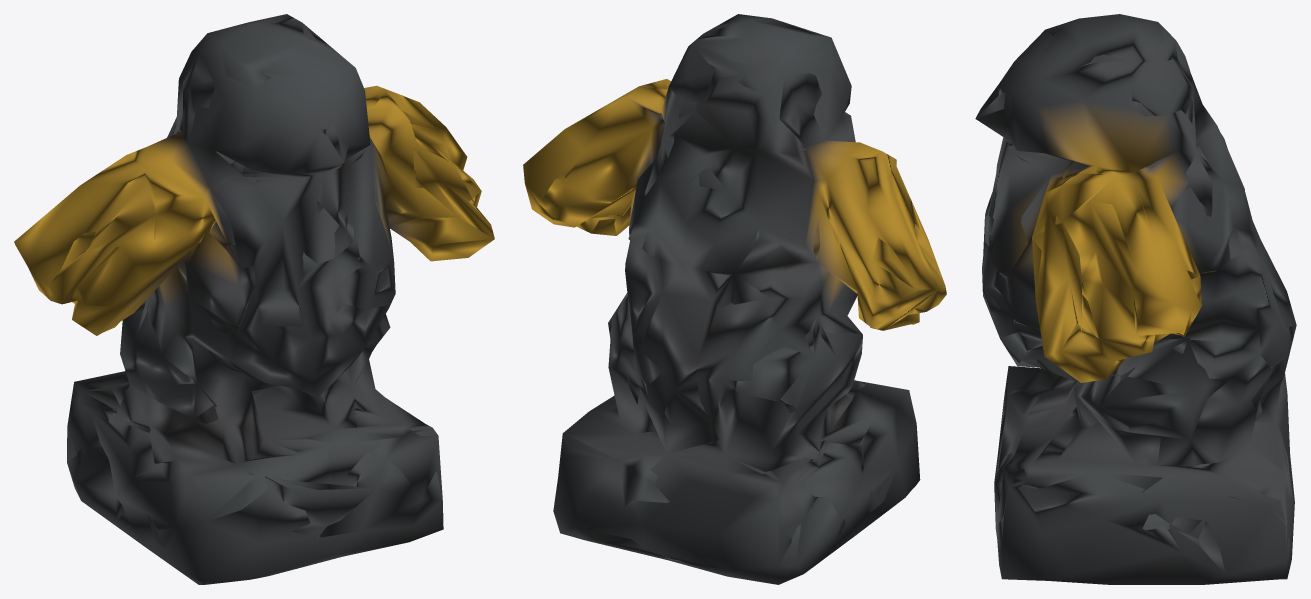
The model's file is gen3d-scarab-statue-lod0.glb.
3 views of the same model, side by side, from view 1: azimuth 30°, elevation 25°; view 2: azimuth 150°, elevation 25°; view 3: azimuth 270°, elevation 25° (orthographic). The views are drawn at different scales.
Parts seen in each view (by area): view 1: part_0; view 2: part_0; view 3: part_0.
Boxes of the visible parts, x1,y1,x2,y2 form: part_0: (14, 14, 494, 584); part_0: (523, 14, 946, 584); part_0: (975, 14, 1296, 584).
Bounding box in the file's own units: 0.8976 × 0.9972 × 0.5815.
